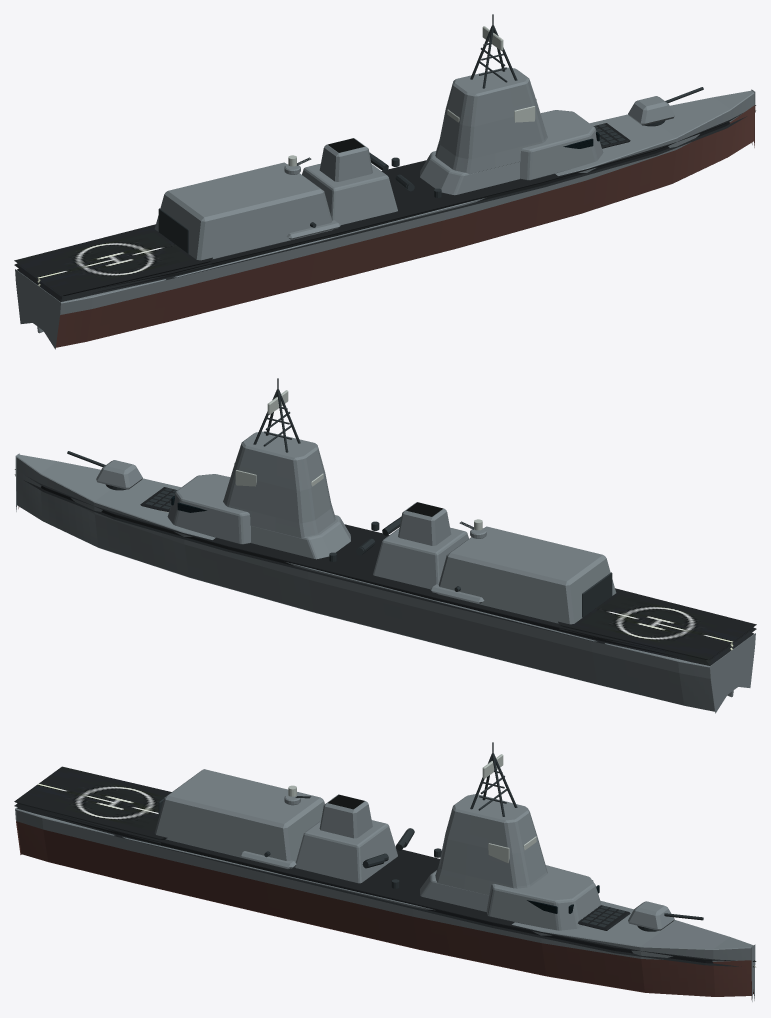
File: destroyer-modern.glb
The picture shows the model from 3 angles, top to bottom: view 1: azimuth 30°, elevation 25°; view 2: azimuth 150°, elevation 25°; view 3: azimuth 330°, elevation 25°; orthographic projection.
Visible parts, largest first — view 1: Hobart_Hull, Hobart_Hangar, Hobart_Aegis_Tower_Shell, Hobart_Main_Deck, Hobart_Helicopter_Deck, Hobart_Bridge_Shell, Hobart_Exhaust_Foundation, Hobart_Aegis_Tower_Foundation, Hobart_Exhaust_Shell, Hobart_Main_Gun_House, Hobart_Hangar_Door; view 2: Hobart_Hull, Hobart_Hangar, Hobart_Aegis_Tower_Shell, Hobart_Main_Deck, Hobart_Helicopter_Deck, Hobart_Bridge_Shell, Hobart_Exhaust_Foundation, Hobart_Aegis_Tower_Foundation, Hobart_Exhaust_Shell, Hobart_Main_Gun_House, Hobart_Hangar_Door; view 3: Hobart_Hull, Hobart_Hangar, Hobart_Main_Deck, Hobart_Aegis_Tower_Shell, Hobart_Helicopter_Deck, Hobart_Bridge_Shell, Hobart_Exhaust_Foundation, Hobart_Exhaust_Shell, Hobart_Aegis_Tower_Foundation, Hobart_Main_Gun_House, Hobart_VLS_Well.
Part boxes in pixels (left/top/right/bottom): Hobart_Hull: left=15, top=89, right=755, bottom=349; Hobart_Hangar: left=154, top=162, right=332, bottom=260; Hobart_Aegis_Tower_Shell: left=435, top=67, right=547, bottom=174; Hobart_Main_Deck: left=17, top=105, right=756, bottom=301; Hobart_Helicopter_Deck: left=14, top=224, right=212, bottom=299; Hobart_Bridge_Shell: left=520, top=110, right=603, bottom=180; Hobart_Exhaust_Foundation: left=302, top=163, right=397, bottom=224; Hobart_Aegis_Tower_Foundation: left=420, top=151, right=519, bottom=195; Hobart_Exhaust_Shell: left=319, top=138, right=372, bottom=181; Hobart_Main_Gun_House: left=628, top=96, right=674, bottom=125; Hobart_Hangar_Door: left=158, top=208, right=188, bottom=253; Hobart_Hull: left=15, top=453, right=755, bottom=713; Hobart_Hangar: left=438, top=526, right=616, bottom=624; Hobart_Aegis_Tower_Shell: left=223, top=431, right=335, bottom=538; Hobart_Main_Deck: left=14, top=469, right=753, bottom=665; Hobart_Helicopter_Deck: left=558, top=588, right=756, bottom=663; Hobart_Bridge_Shell: left=167, top=474, right=250, bottom=544; Hobart_Exhaust_Foundation: left=373, top=527, right=468, bottom=588; Hobart_Aegis_Tower_Foundation: left=251, top=515, right=350, bottom=559; Hobart_Exhaust_Shell: left=398, top=502, right=451, bottom=545; Hobart_Main_Gun_House: left=96, top=460, right=142, bottom=489; Hobart_Hangar_Door: left=582, top=572, right=612, bottom=617; Hobart_Hull: left=15, top=807, right=755, bottom=1001; Hobart_Hangar: left=154, top=769, right=324, bottom=869; Hobart_Main_Deck: left=17, top=807, right=756, bottom=967; Hobart_Aegis_Tower_Shell: left=435, top=794, right=547, bottom=895; Hobart_Helicopter_Deck: left=14, top=766, right=171, bottom=843; Hobart_Bridge_Shell: left=486, top=865, right=601, bottom=930; Hobart_Exhaust_Foundation: left=294, top=820, right=397, bottom=883; Hobart_Exhaust_Shell: left=319, top=794, right=372, bottom=838; Hobart_Aegis_Tower_Foundation: left=420, top=870, right=488, bottom=911; Hobart_Main_Gun_House: left=628, top=901, right=674, bottom=930; Hobart_VLS_Well: left=578, top=905, right=630, bottom=930.
Bounding box in the file's own units: 34.17 × 9.79 × 4.38.
Materials: 8 (3 with a texture image).
